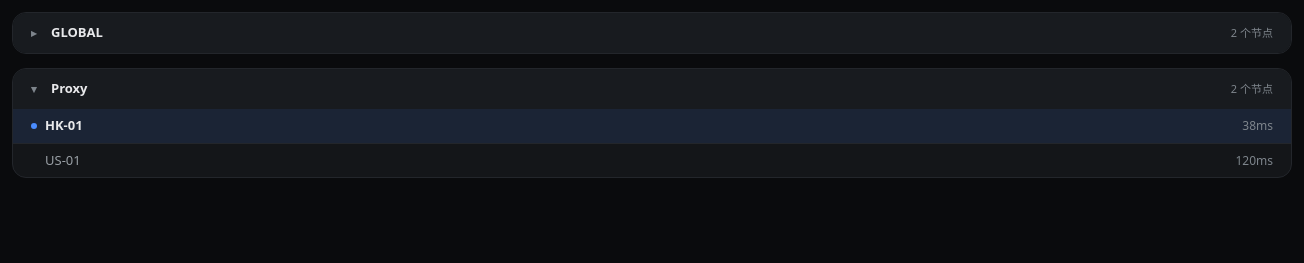
Scenario: NodesPage › GLOBAL 默认折叠，点组头展开
The image size is (1304, 263).
Expected: the button "DIRECT" is not shown
Click the button "▸ GLOBAL 2 个节点" at (77, 32), box [13,13,1291,53]
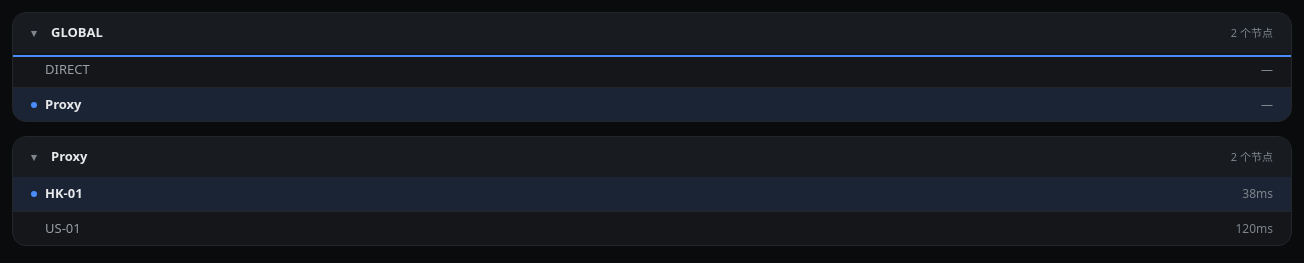
Expected: the button "DIRECT —" is shown, [13,53,1291,87]
